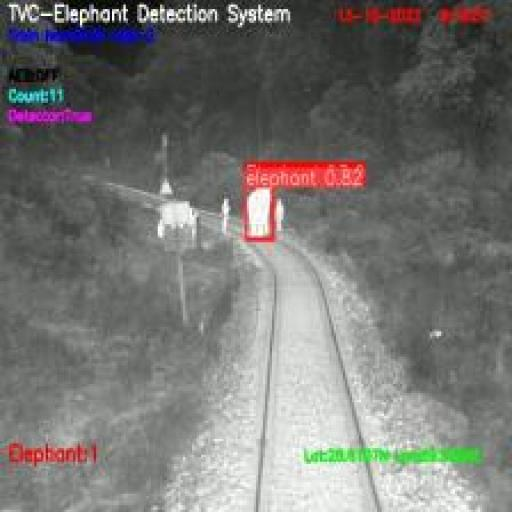Elephant: (247, 185, 274, 239)
